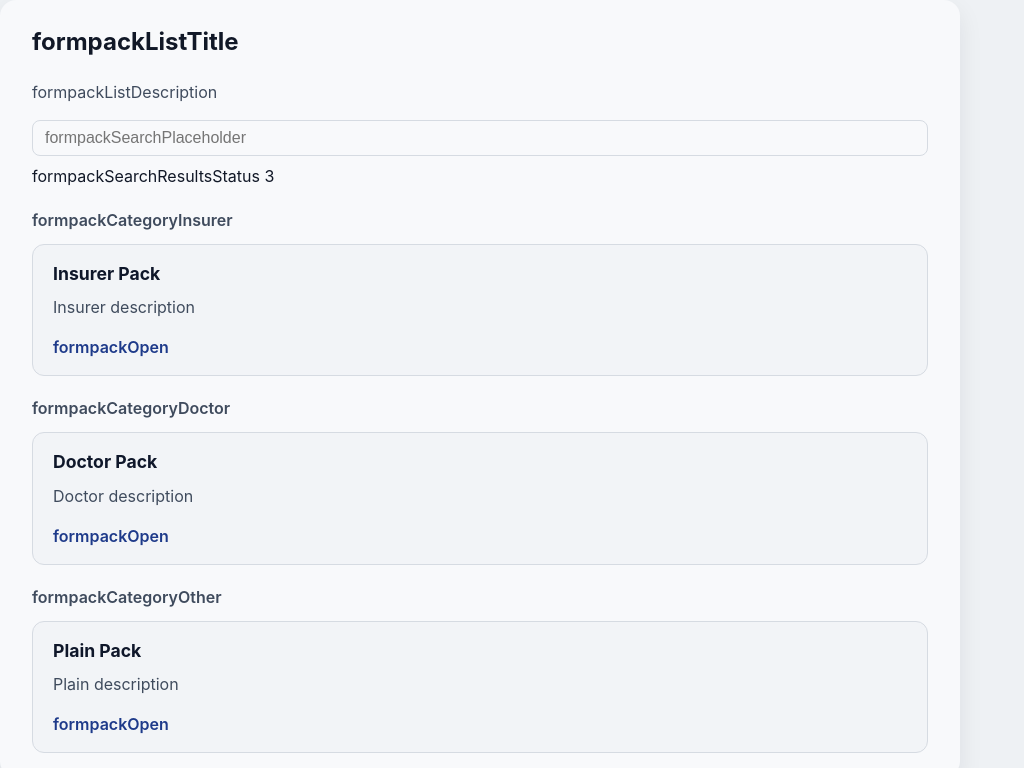
Test: FormpackListPage › matches multiple search tokens with AND logic
Note: "insurer" matches title, "antrag" matches keyword
In the search field with placeholder "formpackSearchPlaceholder": (480, 138) [32, 120, 928, 156], type "insurer antrag"
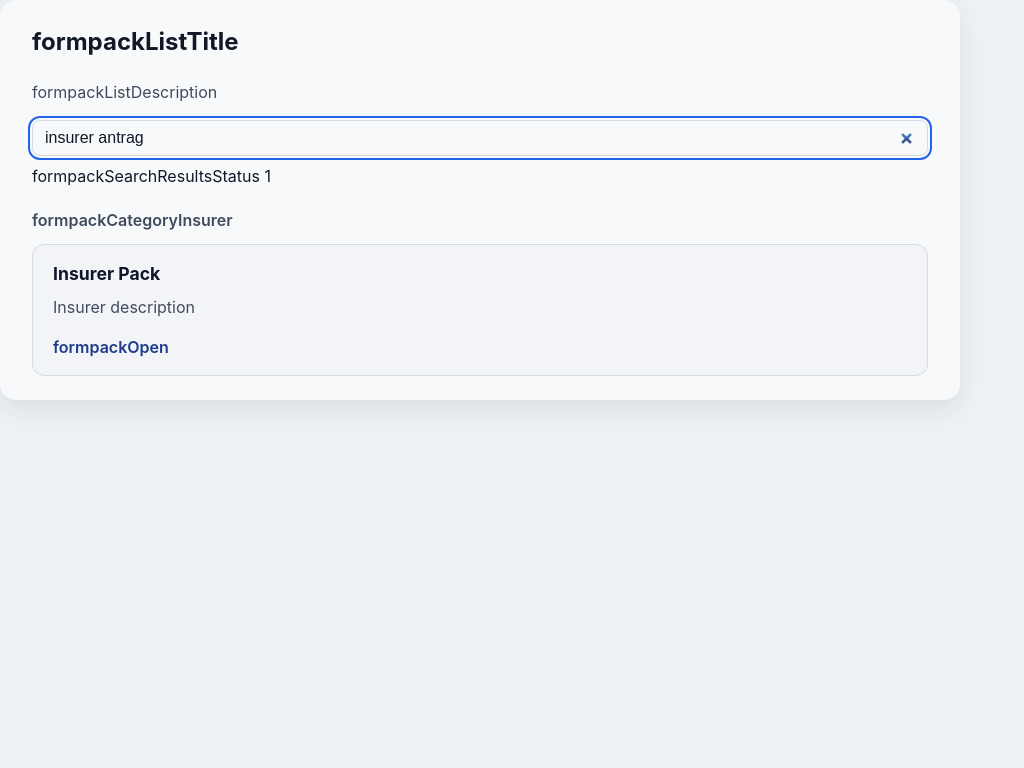
Expected: the heading "Insurer Pack" is shown, [53, 263, 160, 284]
Expected: the link "Doctor Pack" is gone
